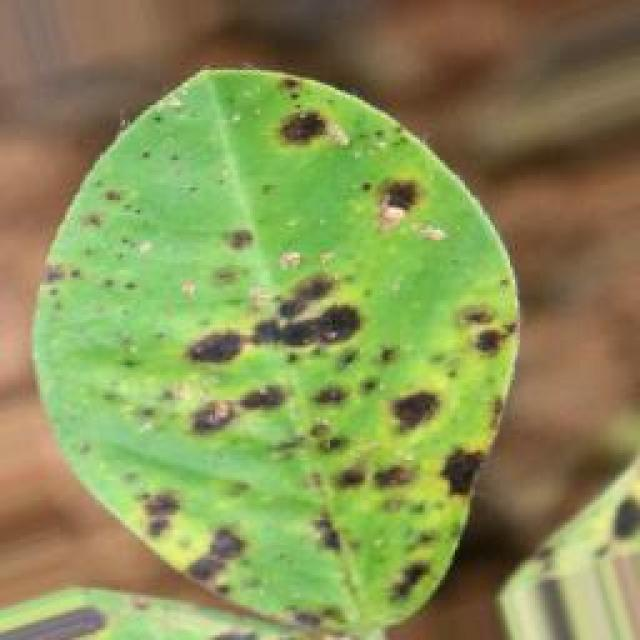Yellowish: (44, 62, 517, 640)
